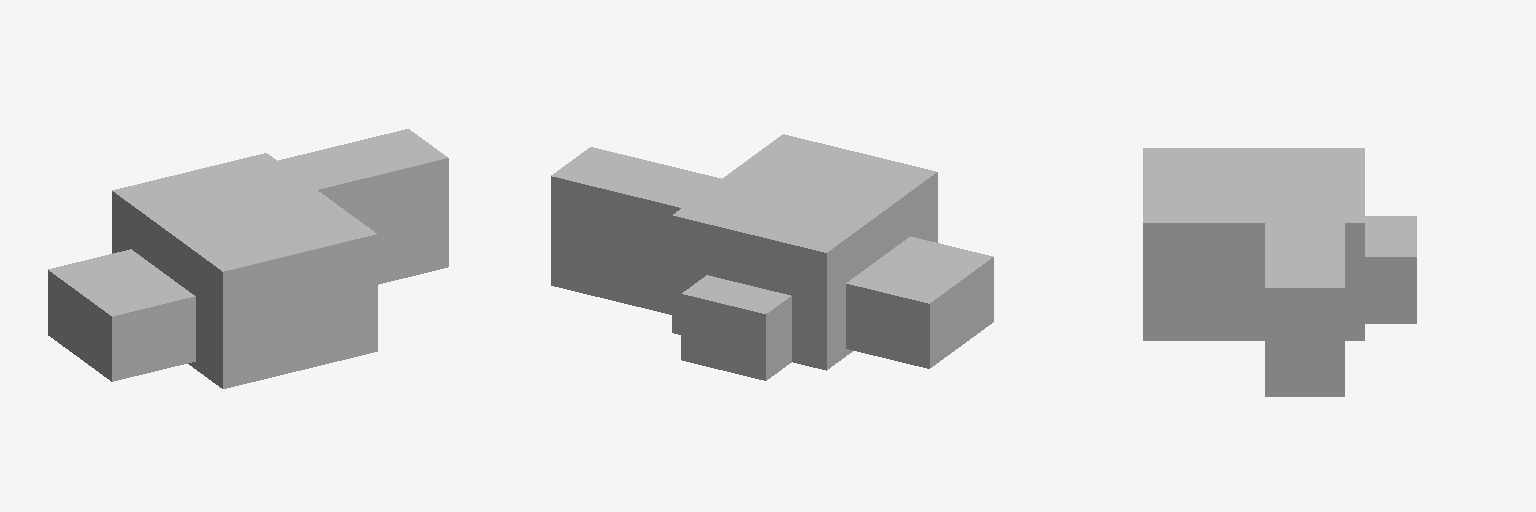
File: level1.obj
3 views of the same model, side by side, from view 1: azimuth 30°, elevation 25°; view 2: azimuth 150°, elevation 25°; view 3: azimuth 270°, elevation 25° (orthographic).
Parts seen in each view (by area): view 1: b0_Cube, b2_Cube.003, b3_Cube.006; view 2: b0_Cube, b3_Cube.006, b2_Cube.003, b1_Cube.001; view 3: b0_Cube, b3_Cube.006, b1_Cube.001.
Part boxes in pixels (x1,y1,x2,y2): b0_Cube: (112,153,377,388); b2_Cube.003: (48,249,195,381); b3_Cube.006: (278,129,448,284); b0_Cube: (672,134,937,370); b3_Cube.006: (551,147,720,314); b2_Cube.003: (846,236,993,368); b1_Cube.001: (681,275,791,380); b0_Cube: (1143,148,1364,340); b3_Cube.006: (1265,223,1344,396); b1_Cube.001: (1365,216,1416,323).
Size of the model in its own units: 52.77 by 16.06 by 33.77.